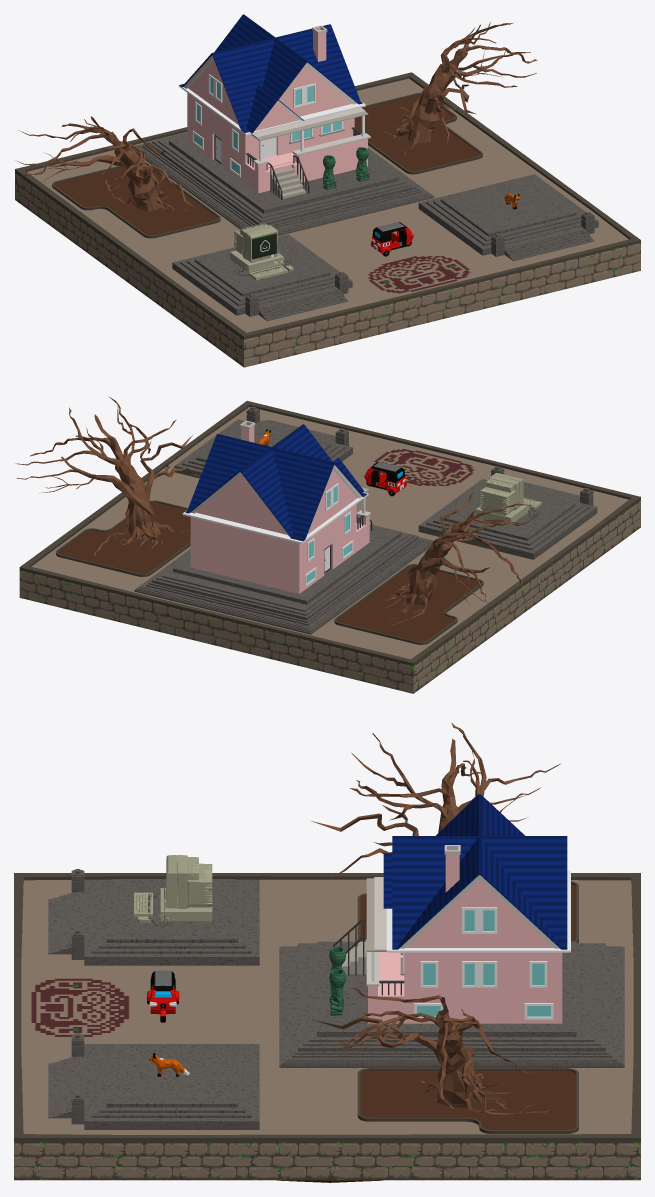
3 views of the same model, one above another, from view 1: azimuth 30°, elevation 25°; view 2: azimuth 150°, elevation 25°; view 3: azimuth 270°, elevation 25° (orthographic). The views are drawn at different scales.
Visible parts, largest first — view 1: Cube.011, Cube.313, OBJRANDOM_RETRO_PC, VEHICLES_TUC_TUC; view 2: Cube.011, Cube.313, OBJRANDOM_RETRO_PC, VEHICLES_TUC_TUC; view 3: Cube.011, Cube.313, OBJRANDOM_RETRO_PC, VEHICLES_TUC_TUC.
Boxes of the visible parts, x1=… form: Cube.011: x1=15, y1=22, x2=640, y2=367; Cube.313: x1=178, y1=14, x2=370, y2=199; OBJRANDOM_RETRO_PC: x1=230, y1=223, x2=293, y2=280; VEHICLES_TUC_TUC: x1=370, y1=222, x2=413, y2=256; Cube.011: x1=14, y1=396, x2=640, y2=693; Cube.313: x1=182, y1=420, x2=372, y2=593; OBJRANDOM_RETRO_PC: x1=475, y1=472, x2=541, y2=524; VEHICLES_TUC_TUC: x1=364, y1=462, x2=406, y2=496; Cube.011: x1=14, y1=722, x2=640, y2=1180; Cube.313: x1=333, y1=794, x2=570, y2=1023; OBJRANDOM_RETRO_PC: x1=134, y1=855, x2=212, y2=926; VEHICLES_TUC_TUC: x1=147, y1=970, x2=179, y2=1022.
Size of the model in its own units: 5099 by 1726 by 4000.
39 materials, 5 textured.
